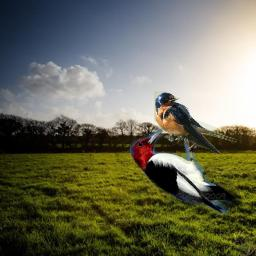Swallow: (154, 91, 237, 154)
Woodpecker: (118, 123, 246, 219)
